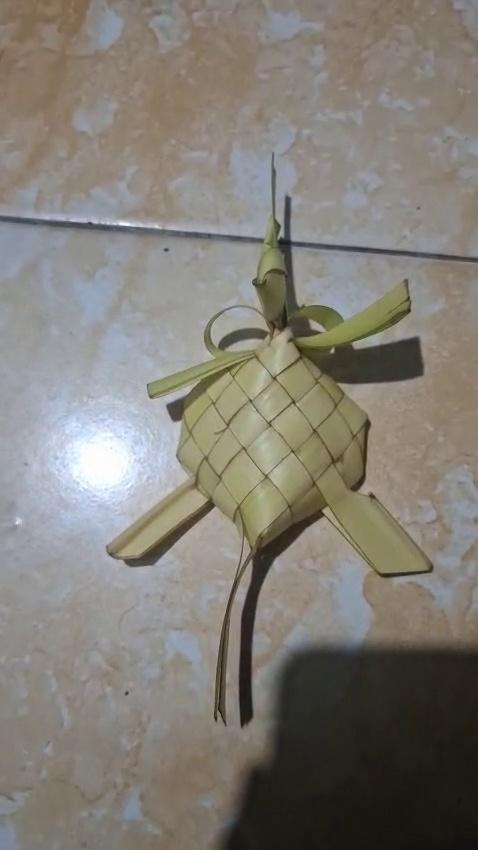Tipat Dampulan: (105, 159, 439, 729)
